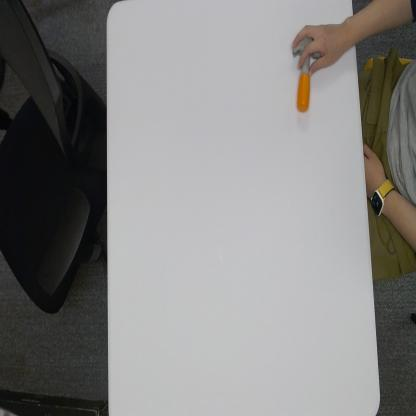Hammer: (292, 37, 322, 113)
Hand: (293, 21, 343, 78)
